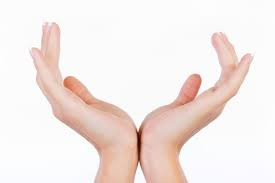hand: (140, 16, 253, 164), (20, 17, 132, 158)
